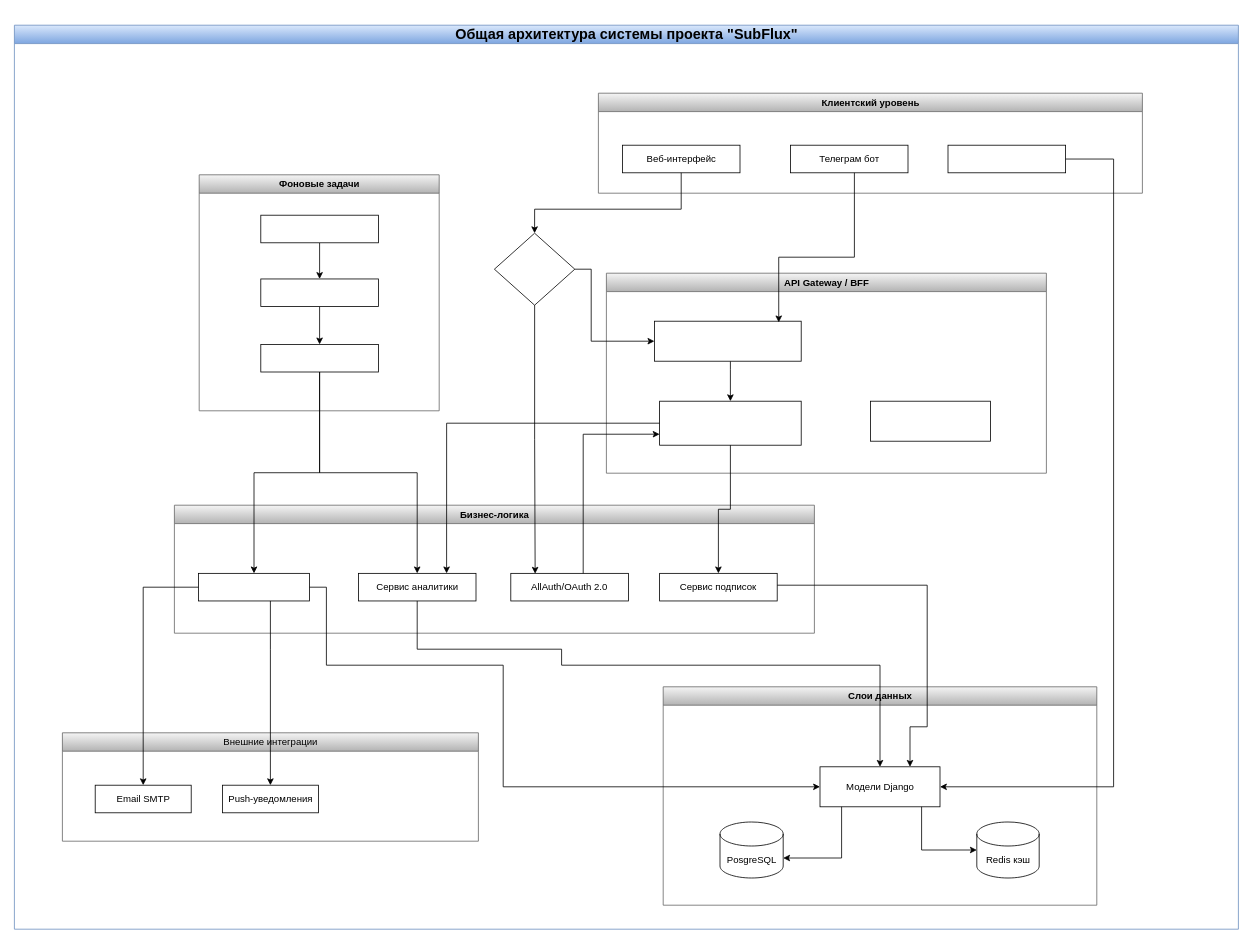
This 1252x943 diagram has some shape labels left out. The centre of each missing label's shape, as x and y in pixels:
? в процессе: pixel 534 268
Admin панель Django: pixel 1006 158
Celery Beat: pixel 319 228
Celery Worker: pixel 319 358
Django REST Framework: pixel 727 340
Rate Limiting: pixel 930 420
Аутентификация JWT: pixel 730 422
Очередь задач Redis: pixel 319 292
Сервис уведомлений: pixel 254 587
